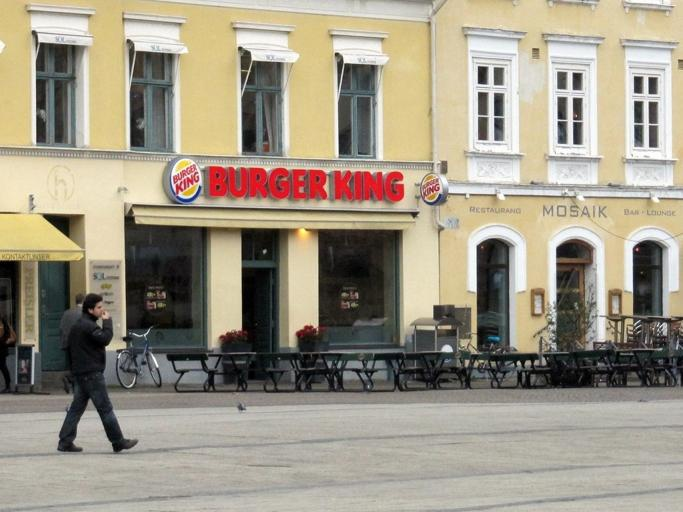non-vehicle: (114, 322, 162, 389), (458, 331, 518, 381)
